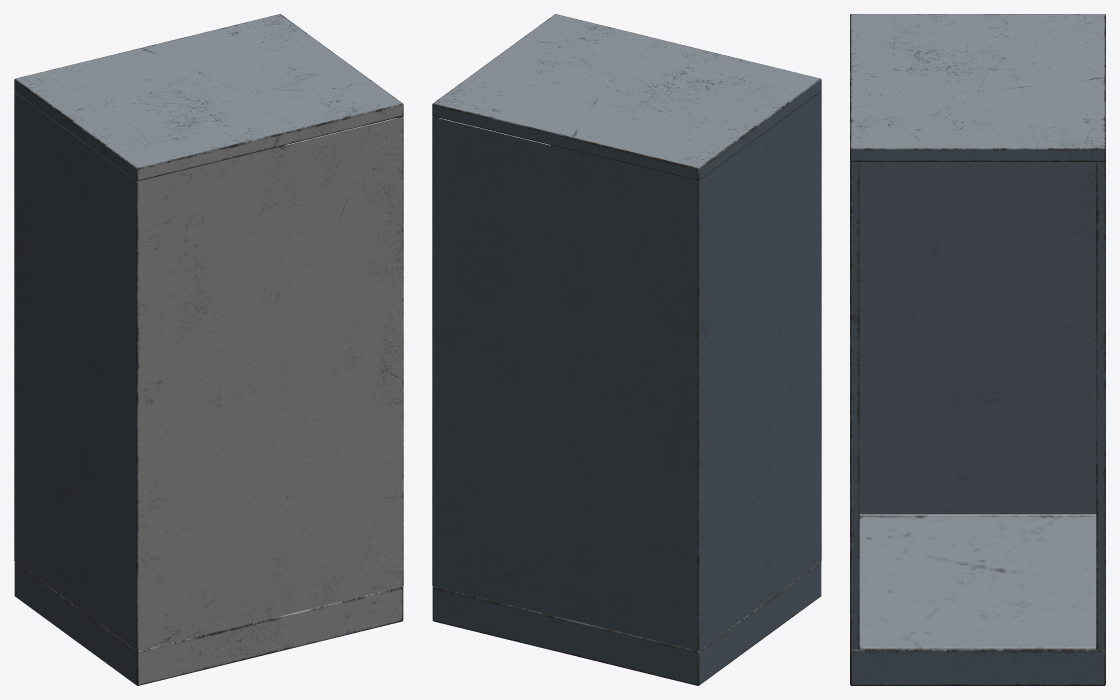
Rendered from Filing  empty.glb.
3 renders of one model, left to right at view 1: azimuth 30°, elevation 25°; view 2: azimuth 150°, elevation 25°; view 3: azimuth 270°, elevation 25°, orthographic. The views are drawn at different scales.
Parts seen in each view (by area): view 1: Cube__0; view 2: Cube__0; view 3: Cube__0.
Boxes of the visible parts, <box> form: Cube__0: <box>14,14,403,685</box>; Cube__0: <box>432,14,821,685</box>; Cube__0: <box>850,14,1105,685</box>.
Bounding box in the file's own units: 100 × 186 × 80.
1 material, 1 textured.
